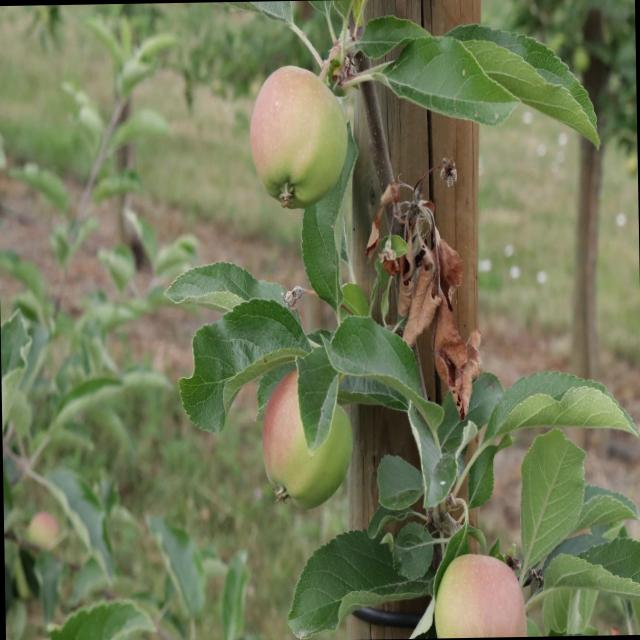-FireBlight-: (398, 176, 484, 421), (363, 172, 402, 291)
